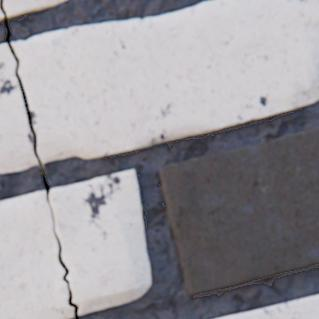brick: (158, 129, 318, 296), (217, 295, 318, 318)
broken_brick: (12, 0, 318, 165), (49, 170, 150, 315), (0, 191, 73, 318), (0, 45, 39, 174), (4, 0, 67, 20), (0, 12, 3, 22)
crack: (0, 0, 78, 318)
